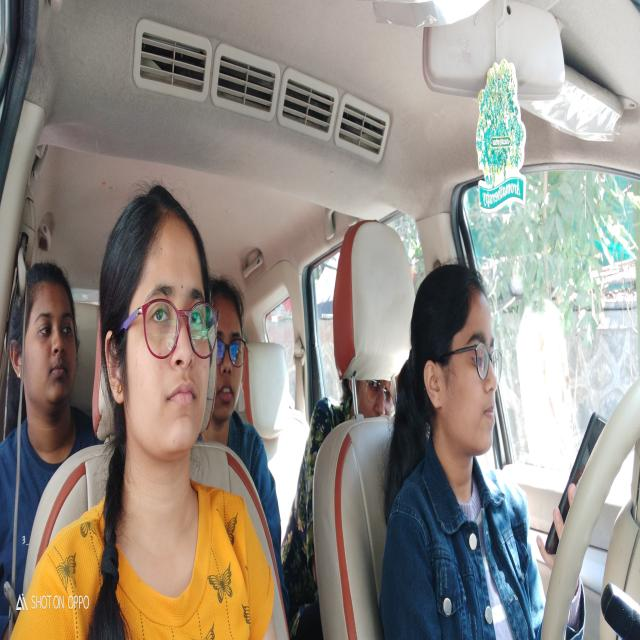mobile: (541, 413, 608, 558)
person: (97, 181, 219, 460), (414, 276, 501, 458), (16, 253, 83, 415), (210, 259, 248, 433), (340, 374, 399, 425)
